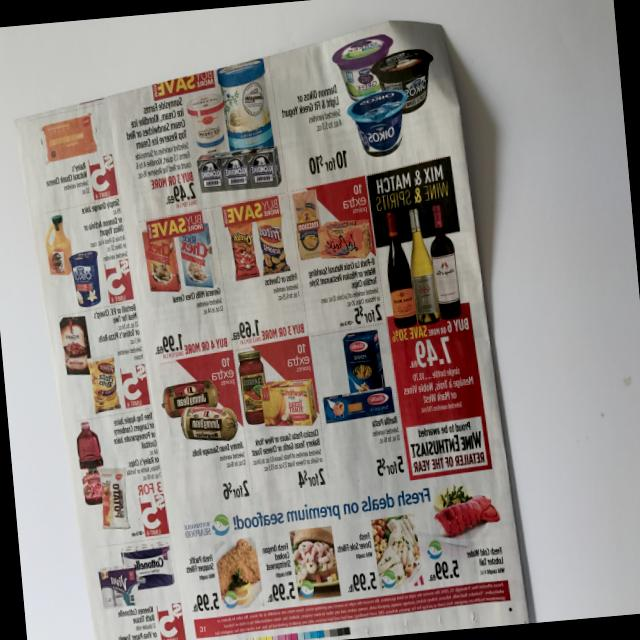Paper: (8, 11, 530, 640)
